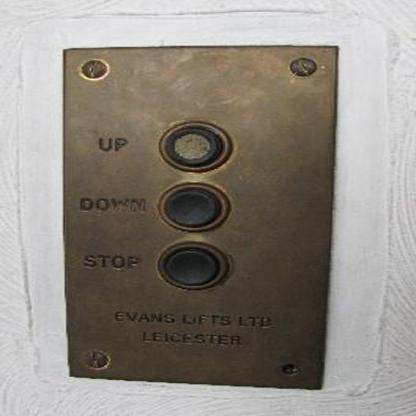empty: (152, 117, 238, 174), (154, 178, 235, 233), (153, 239, 234, 292)
